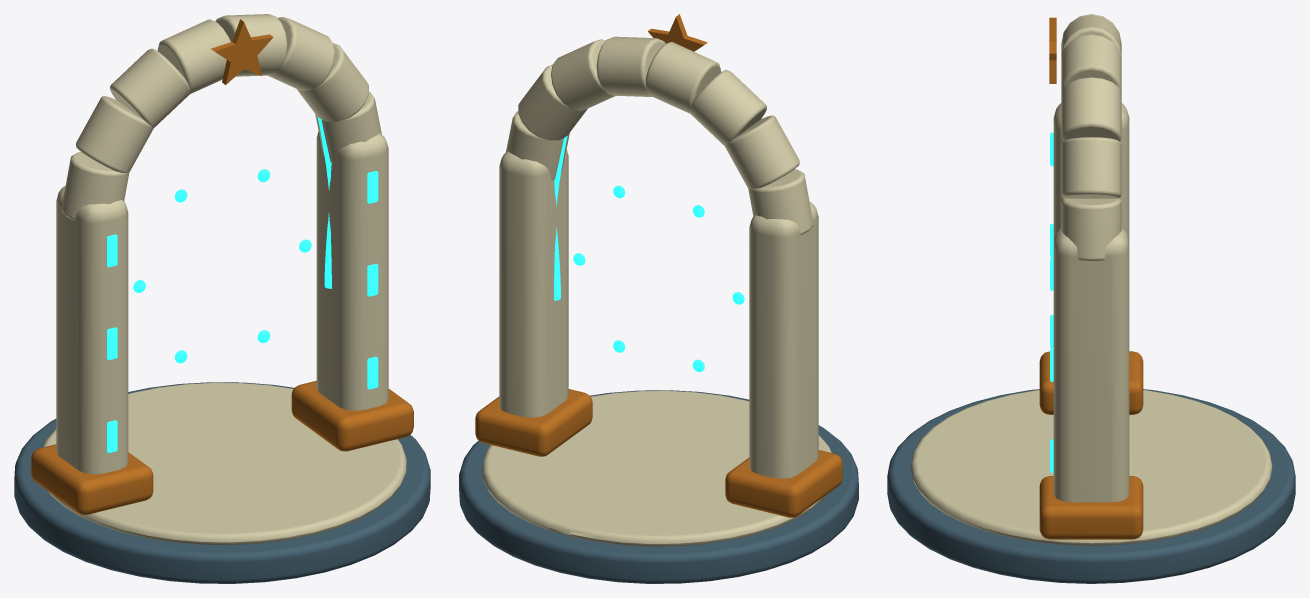
Rendered from star_gate.glb.
3 views of the same model, side by side, from view 1: azimuth 30°, elevation 25°; view 2: azimuth 150°, elevation 25°; view 3: azimuth 270°, elevation 25° (orthographic). The views are drawn at different scales.
Parts seen in each view (by area): view 1: gate_inlay, gate_platform, gate_pillar, gate_pillar.001, gate_pillar_foot.001, gate_pillar_foot, gate_arch_segment.005, gate_arch_segment.006, gate_arch_segment.004, gate_arch_segment.002, gate_arch_segment.001, gate_arch_segment.007 (+4 smaller); view 2: gate_inlay, gate_platform, gate_pillar, gate_pillar.001, gate_pillar_foot.001, gate_pillar_foot, gate_arch_segment.005, gate_arch_segment.006, gate_arch_segment.004, gate_arch_segment.003, gate_arch_segment.002, gate_arch_segment.001 (+4 smaller); view 3: gate_inlay, gate_platform, gate_pillar.001, gate_pillar_foot.001, gate_arch_segment.001, gate_arch_segment.002, gate_arch_segment, gate_arch_segment.003, gate_pillar, gate_pillar_foot, gate_arch_segment.004, gate_crown_star.
Boxes of the visible parts, x1=… form: gate_inlay: x1=42, y1=382, x2=406, y2=544; gate_platform: x1=14, y1=382, x2=430, y2=583; gate_pillar: x1=56, y1=186, x2=128, y2=474; gate_pillar.001: x1=316, y1=131, x2=388, y2=410; gate_pillar_foot.001: x1=291, y1=381, x2=413, y2=451; gate_pillar_foot: x1=31, y1=444, x2=153, y2=514; gate_arch_segment.005: x1=110, y1=48, x2=190, y2=127; gate_arch_segment.006: x1=76, y1=96, x2=153, y2=172; gate_arch_segment.004: x1=157, y1=19, x2=230, y2=93; gate_arch_segment.002: x1=268, y1=17, x2=334, y2=91; gate_arch_segment.001: x1=297, y1=43, x2=368, y2=121; gate_arch_segment.007: x1=61, y1=152, x2=129, y2=220; gate_inlay: x1=482, y1=390, x2=831, y2=546; gate_platform: x1=459, y1=390, x2=858, y2=583; gate_pillar: x1=749, y1=202, x2=818, y2=478; gate_pillar.001: x1=499, y1=149, x2=568, y2=417; gate_pillar_foot.001: x1=475, y1=389, x2=592, y2=456; gate_pillar_foot: x1=725, y1=450, x2=842, y2=517; gate_arch_segment.005: x1=690, y1=70, x2=766, y2=145; gate_arch_segment.006: x1=725, y1=115, x2=799, y2=189; gate_arch_segment.004: x1=645, y1=42, x2=721, y2=113; gate_arch_segment.003: x1=596, y1=36, x2=665, y2=96; gate_arch_segment.002: x1=551, y1=39, x2=615, y2=110; gate_arch_segment.001: x1=518, y1=64, x2=587, y2=140; gate_inlay: x1=910, y1=390, x2=1272, y2=545; gate_platform: x1=887, y1=389, x2=1295, y2=583; gate_pillar.001: x1=1053, y1=228, x2=1129, y2=502; gate_pillar_foot.001: x1=1039, y1=476, x2=1143, y2=539; gate_arch_segment.001: x1=1061, y1=137, x2=1121, y2=198; gate_arch_segment.002: x1=1061, y1=77, x2=1121, y2=141; gate_arch_segment: x1=1061, y1=198, x2=1121, y2=261; gate_arch_segment.003: x1=1061, y1=34, x2=1121, y2=91; gate_pillar: x1=1053, y1=103, x2=1129, y2=241; gate_pillar_foot: x1=1039, y1=351, x2=1143, y2=414; gate_arch_segment.004: x1=1061, y1=15, x2=1121, y2=57; gate_crown_star: x1=1049, y1=17, x2=1056, y2=83.
Size of the model in its own units: 2.44 by 3.18 by 2.44.
